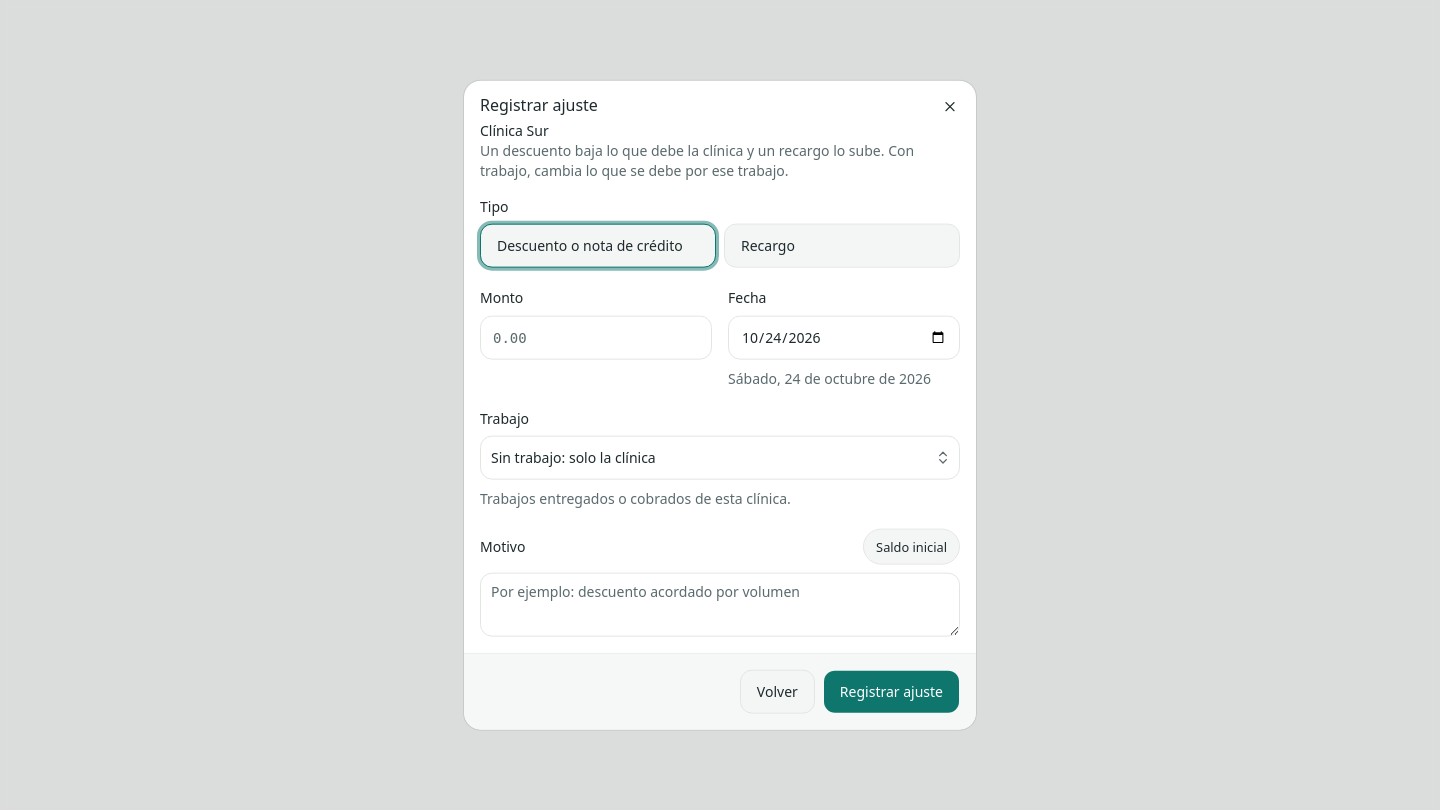
Scenario: AdjustmentDialog («Registrar ajuste», CTA-3) › aviso del descuento que vuelve al saldo a favor › un descuento sobre un trabajo cobrado dice cuánto de lo pagado vuelve
Step 1. Click the button "Descuento o nota de crédito" → (598, 246), box top-left (480, 224), bottom-right (716, 268)
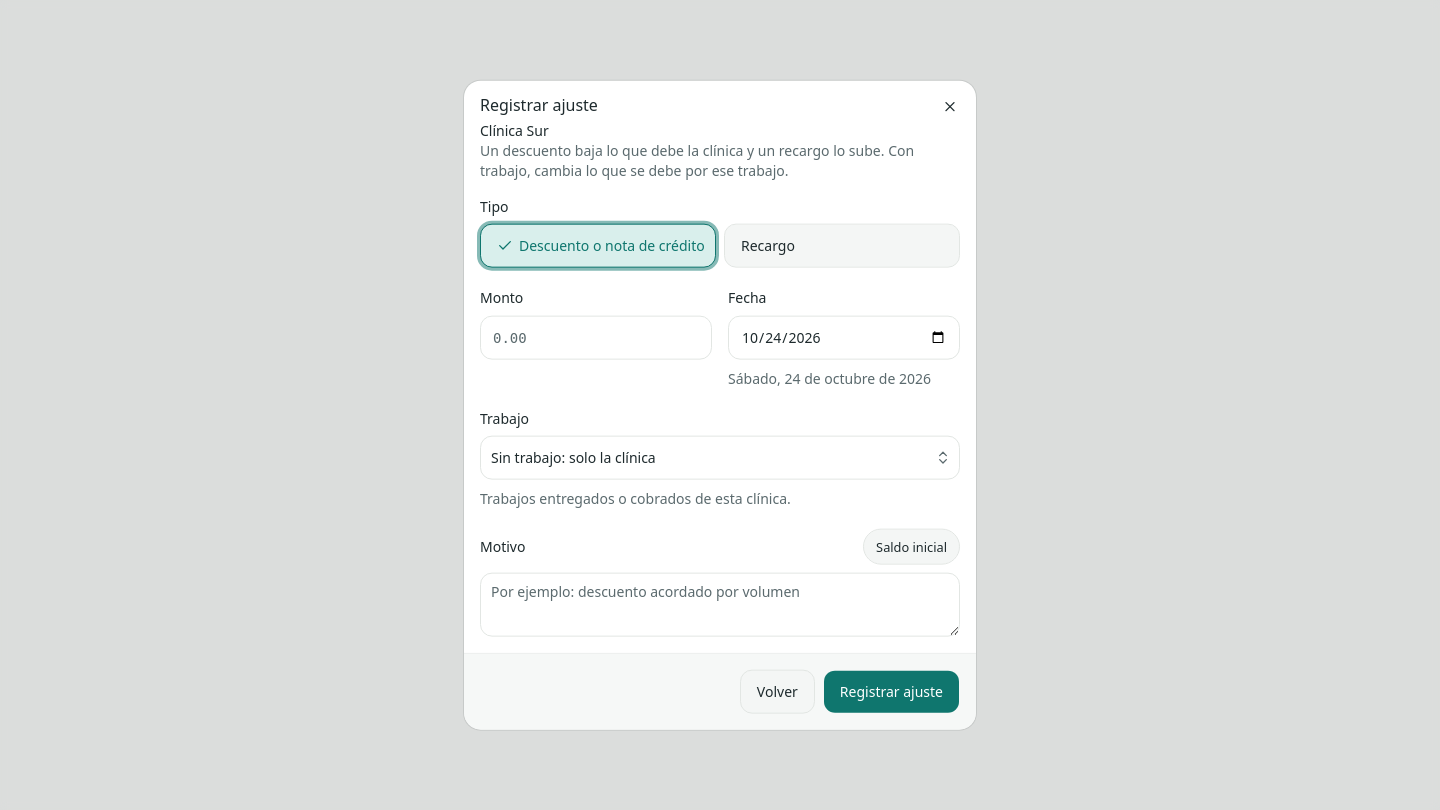
Step 2. Click the dropdown labelled "trabajo" → (573, 457), box top-left (480, 435), bottom-right (960, 479)
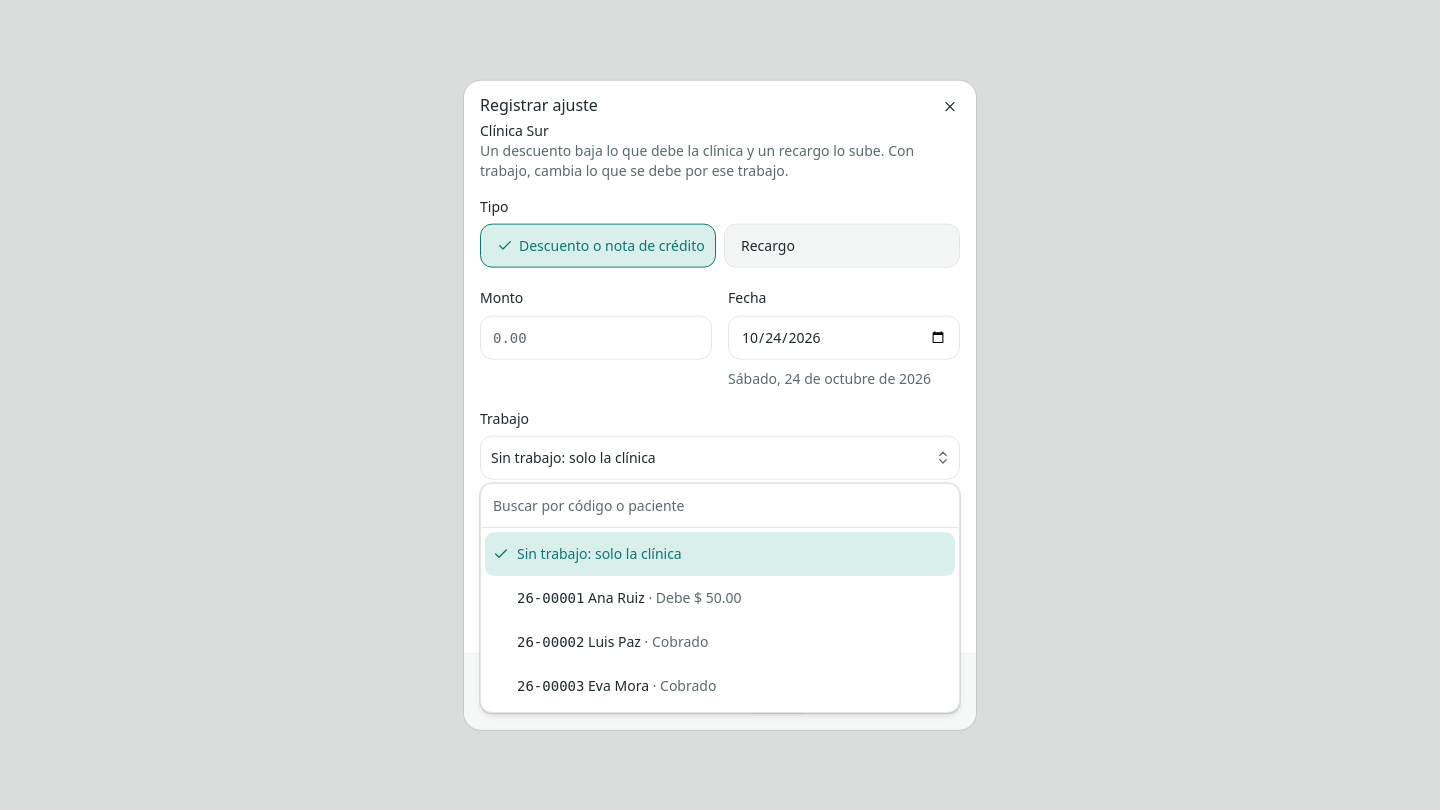
Step 3. Click the option "26-00002 Luis Paz · Cobrado" → (613, 642), box top-left (517, 632), bottom-right (708, 651)
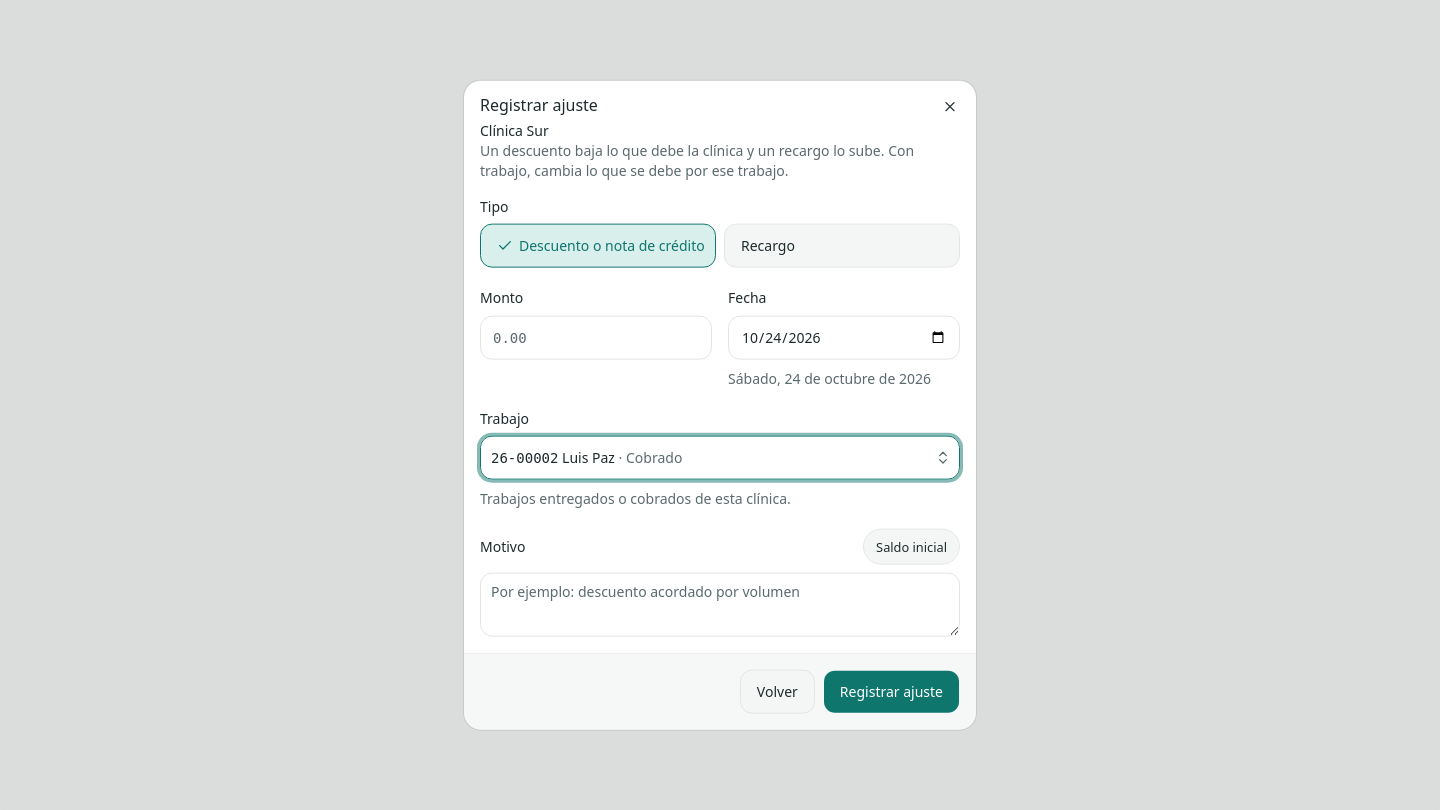
Step 4. Type "20" into the field labelled "Monto" → (596, 337), box top-left (480, 315), bottom-right (712, 359)
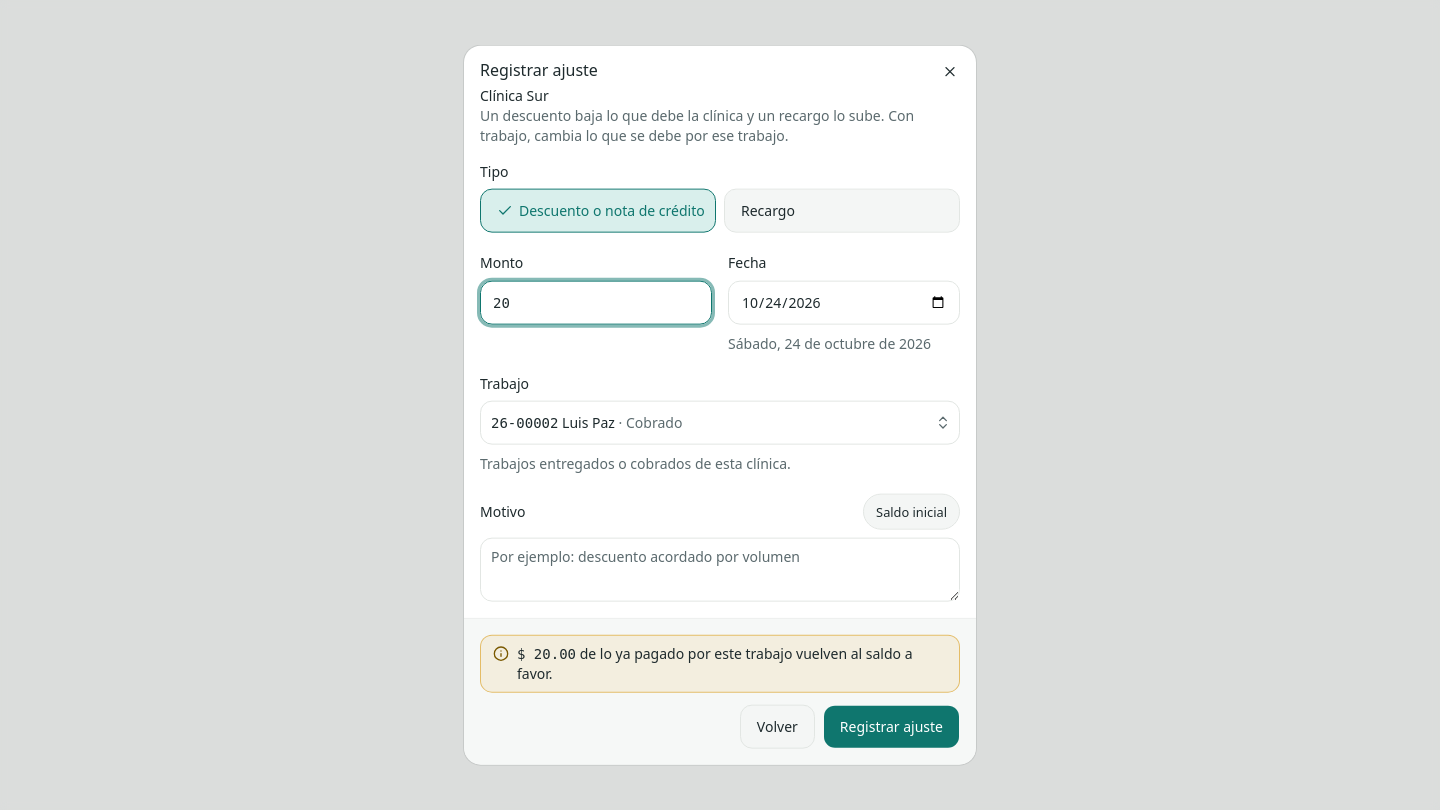
Expected: the text "de lo ya pagado por este trabajo vuelven al saldo a favor." reads "$ 20.00 de lo ya pagado por este trabajo vuelven al saldo a favor.", top-left (517, 643), bottom-right (947, 683)
